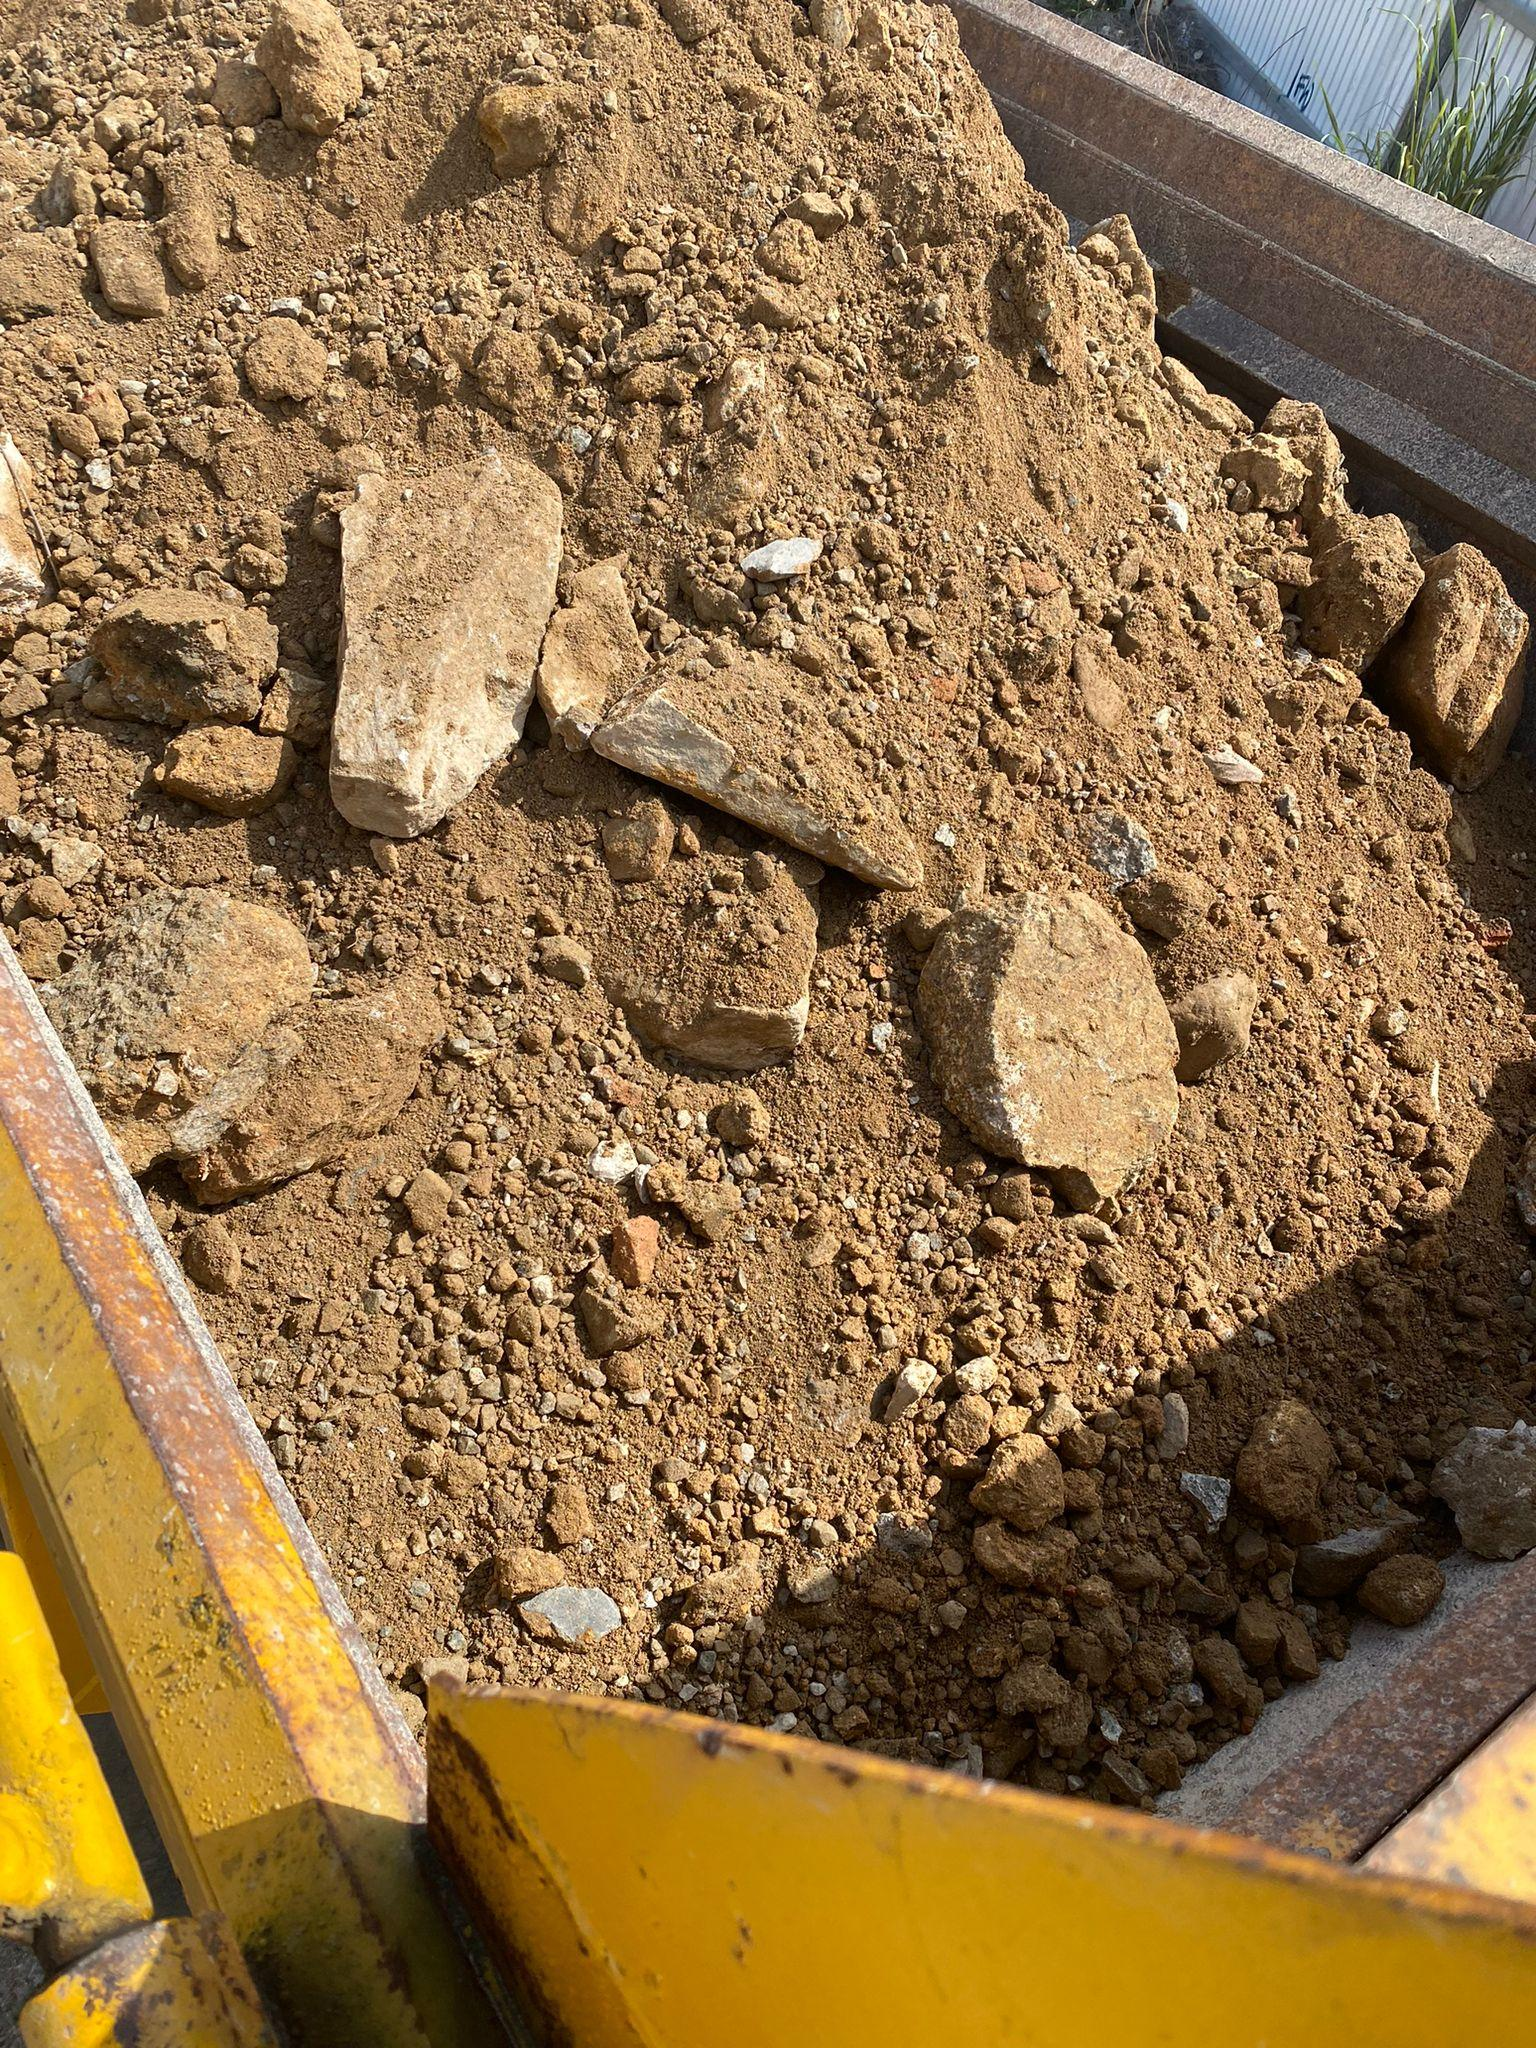dry: (10, 0, 1536, 1777)
